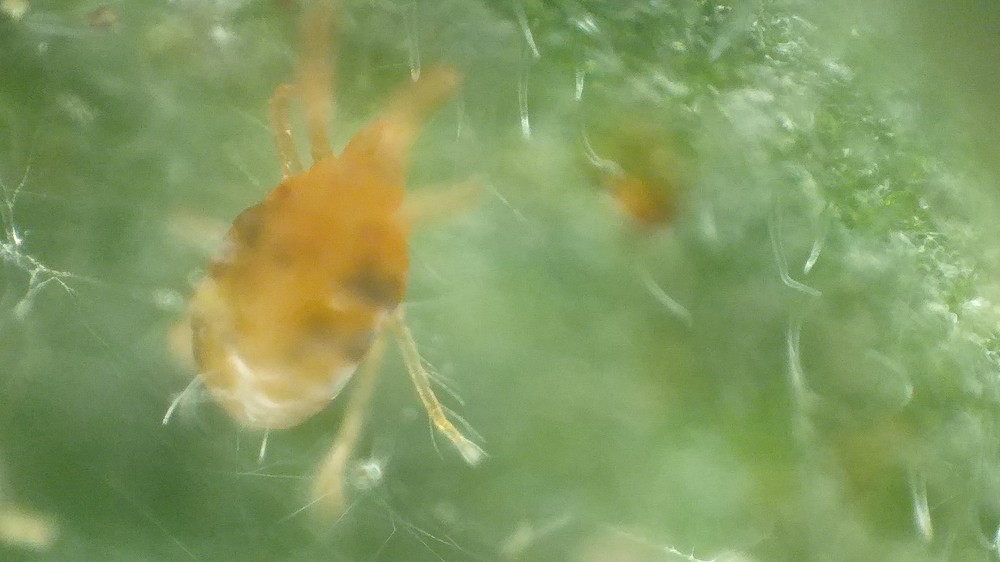Aracnido Rojo: (148, 18, 518, 515)
